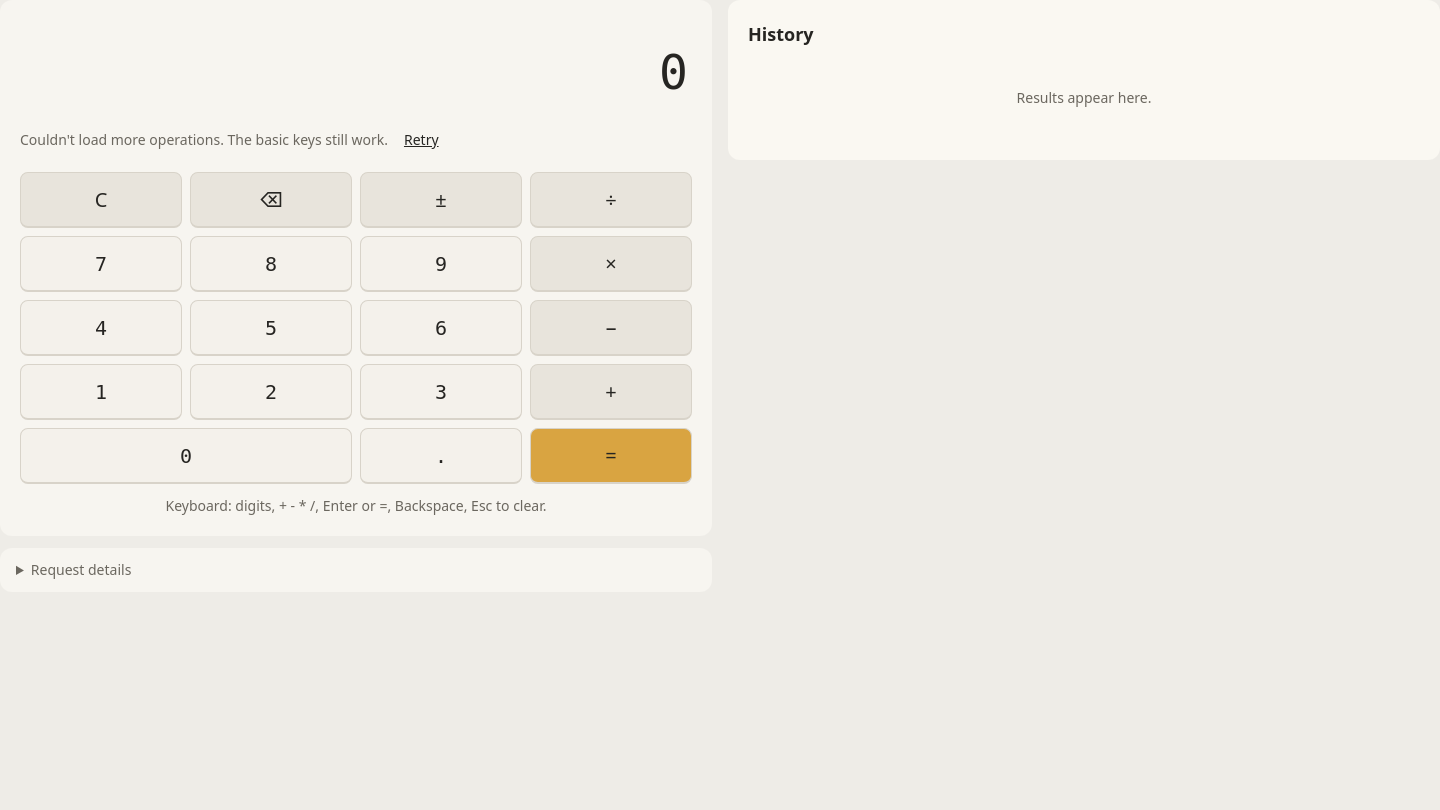
Calculator › loading the operations list › offers a manual retry after the automatic ones run out
What coordinates should you click on to do the following:
click the button "Retry"
I would click on:
 (421, 140)
Its box is [396,126,447,154].
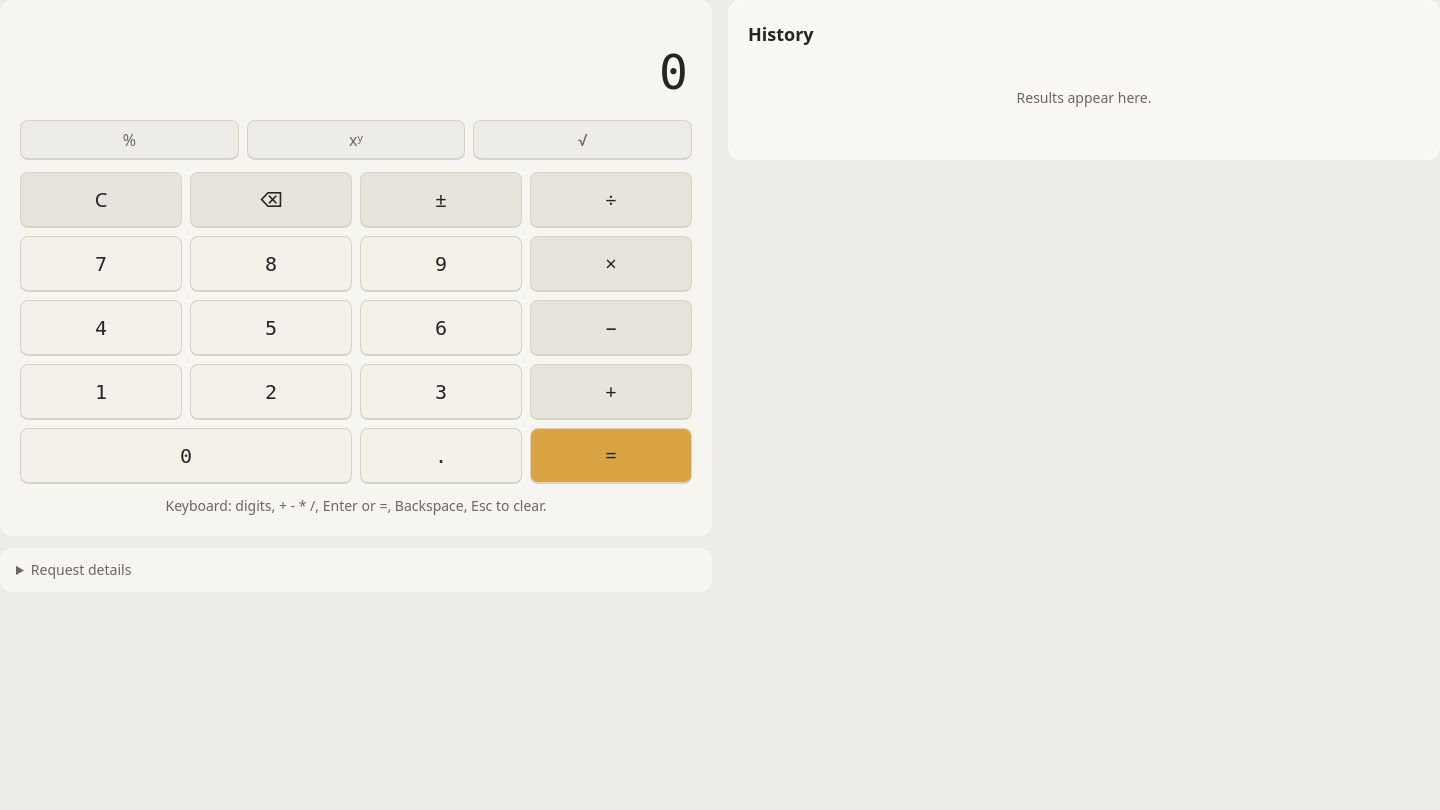
Result: the button named "Square root" is shown at [473,120,692,160]
